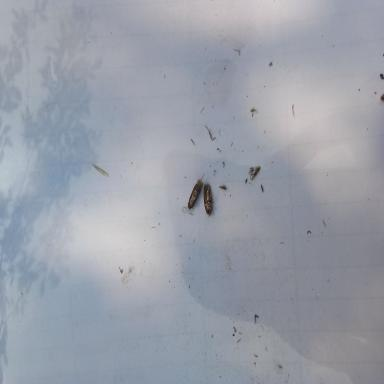pbw: (182, 173, 205, 215), (204, 183, 214, 216), (218, 184, 226, 190)
